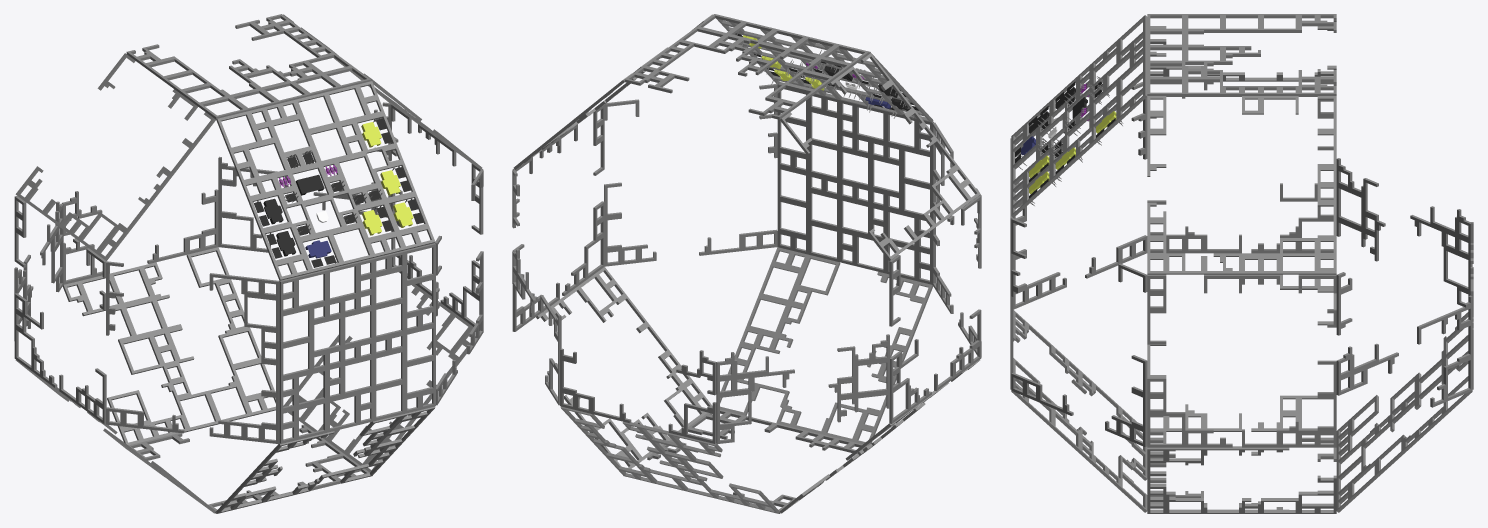
Rendered from StarbaseAtlasProjectRobur.glb.
The picture shows the model from 3 angles, left to right: view 1: azimuth 30°, elevation 25°; view 2: azimuth 150°, elevation 25°; view 3: azimuth 270°, elevation 25°; orthographic projection. The views are drawn at different scales.
Visible parts, largest first — view 1: Block_Player_Ship_Shop_OKI.003, Block_Player_Ship_Shop_OKI.004, Block_Player_Ship_Shop_Duratech.002, Block_Player_Ship_Shop_Rando.005, Block_Player_Ship_Shop_Rando.006, Block_Player_Ship_Shop_Rando.008, Block_Player_Ship_Shop_Rando.007, Block_Ship_Hangars.008, Block_Command_Center.003, Block.203; view 2: no part large enough to name; view 3: Block_Player_Ship_Shop_Rando.007, Block_Player_Ship_Shop_Rando.006, Block_Player_Ship_Shop_Rando.005, Block.250.
Boxes of the visible parts, <box> form: Block_Player_Ship_Shop_OKI.003: <box>248,191,292,232</box>; Block_Player_Ship_Shop_OKI.004: <box>260,224,304,264</box>; Block_Player_Ship_Shop_Duratech.002: <box>299,232,342,272</box>; Block_Player_Ship_Shop_Rando.005: <box>354,113,397,153</box>; Block_Player_Ship_Shop_Rando.006: <box>385,193,428,233</box>; Block_Player_Ship_Shop_Rando.008: <box>354,201,397,240</box>; Block_Player_Ship_Shop_Rando.007: <box>373,161,416,200</box>; Block_Ship_Hangars.008: <box>289,164,332,203</box>; Block_Command_Center.003: <box>300,196,344,235</box>; Block.203: <box>119,334,163,374</box>; Block_Player_Ship_Shop_Rando.007: <box>1051,139,1082,181</box>; Block_Player_Ship_Shop_Rando.006: <box>1024,164,1056,205</box>; Block_Player_Ship_Shop_Rando.005: <box>1091,103,1123,145</box>; Block.250: <box>1147,412,1185,447</box>.
Bounding box in the file's own units: 4526 × 4526 × 4526.
